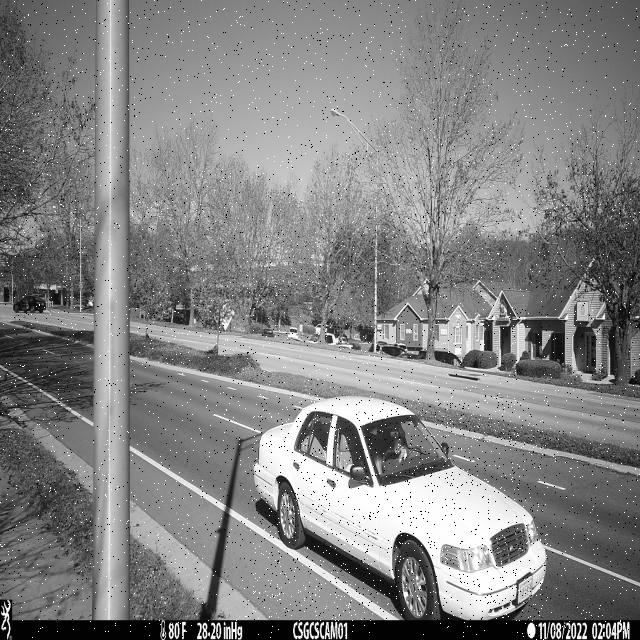Sedan: (253, 396, 548, 621)
